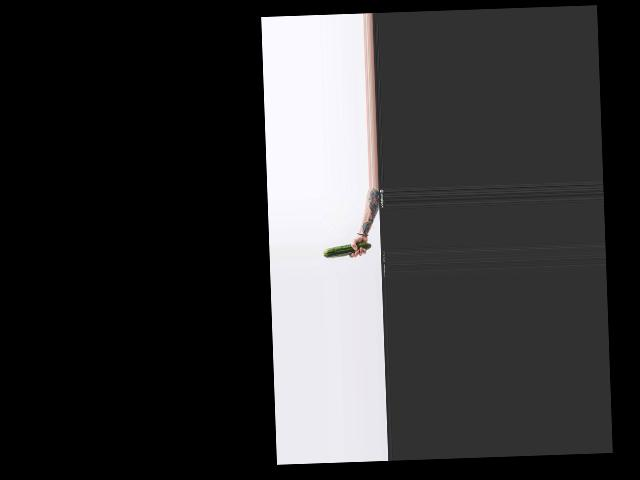cucumber: (322, 242, 371, 258)
